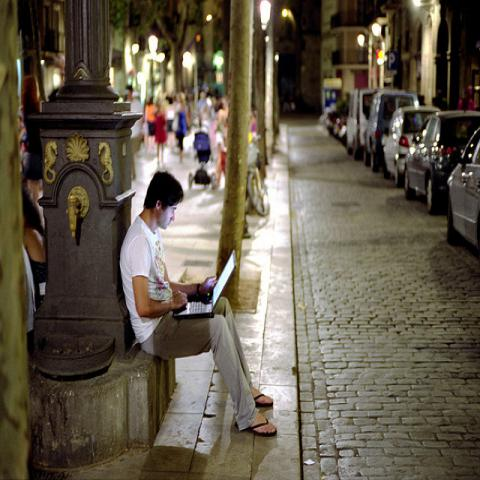car: (402, 108, 479, 218), (381, 105, 440, 187), (363, 86, 419, 172), (448, 126, 480, 258), (346, 90, 379, 158), (325, 100, 348, 144), (319, 105, 335, 127)
